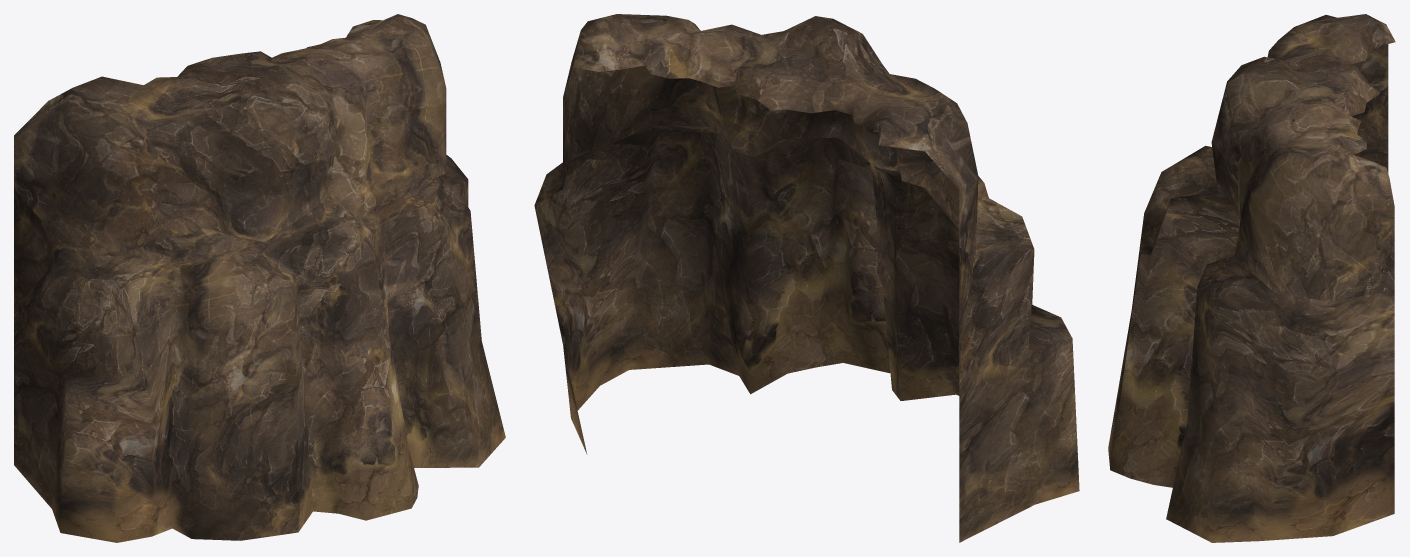
The model's file is 10401_ground1_02.FBX.
3 renders of one model, left to right at view 1: azimuth 30°, elevation 25°; view 2: azimuth 150°, elevation 25°; view 3: azimuth 270°, elevation 25°, orthographic. The views are drawn at different scales.
Parts seen in each view (by area): view 1: 10401_ground1_02; view 2: 10401_ground1_02; view 3: 10401_ground1_02.
Part boxes in pixels (x1,y1,x2,y2): 10401_ground1_02: (14, 14, 505, 542); 10401_ground1_02: (534, 14, 1079, 542); 10401_ground1_02: (1108, 14, 1395, 542).
Size of the model in its own units: 923 by 781 by 537.
